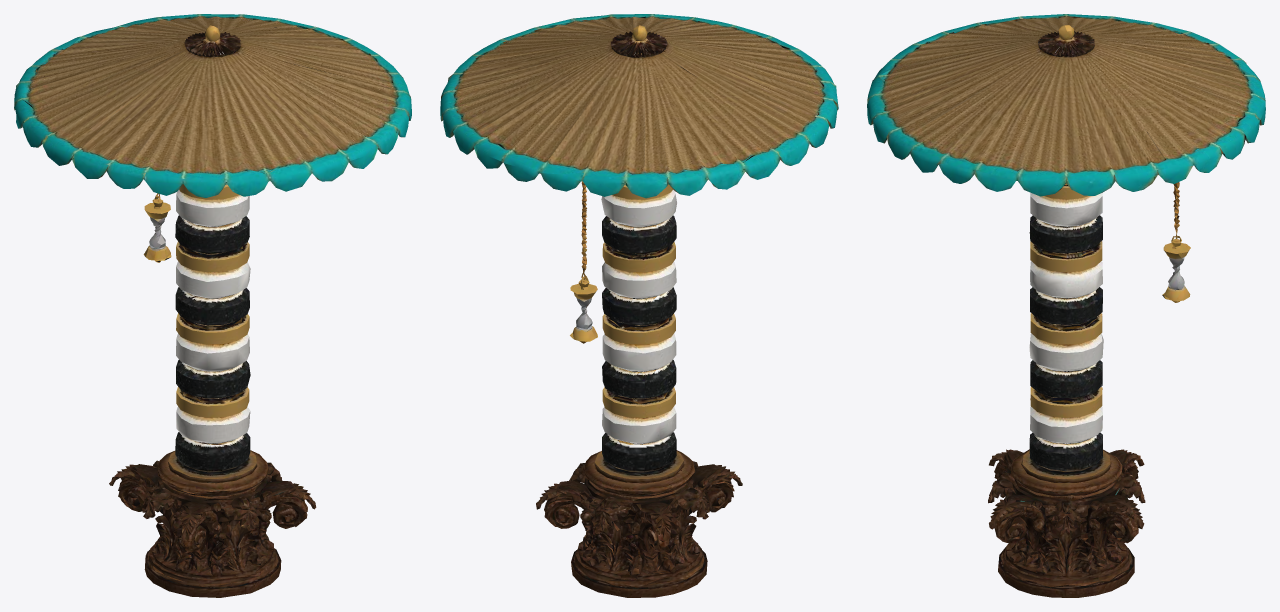
File: TH-00_lamp_game.glb
3 views of the same model, side by side, from view 1: azimuth 30°, elevation 25°; view 2: azimuth 150°, elevation 25°; view 3: azimuth 270°, elevation 25° (orthographic).
Visible parts, largest first — view 1: TH-00_lamp; view 2: TH-00_lamp; view 3: TH-00_lamp.
Part boxes in pixels (x1,y1,x2,y2): TH-00_lamp: (14, 14, 411, 597); TH-00_lamp: (440, 14, 838, 597); TH-00_lamp: (867, 14, 1265, 597).
Bounding box in the file's own units: 0.3957 × 0.6002 × 0.3985.
Materials: 1 (1 with a texture image).
